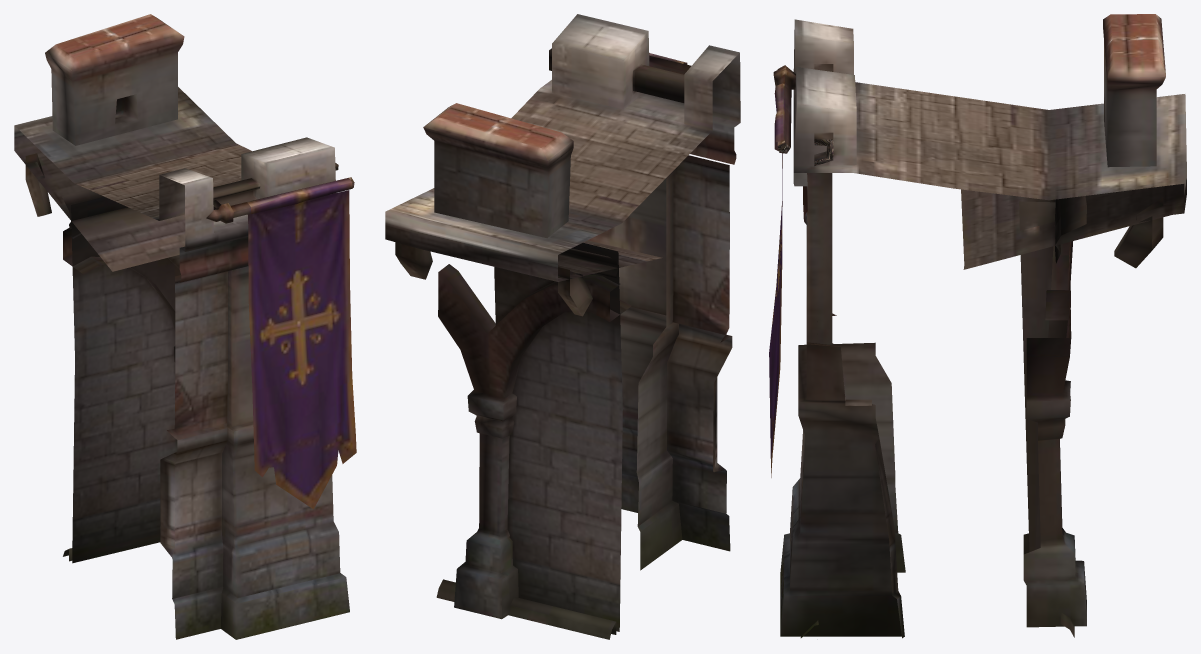
Rendered from WallRunLeft_17.fbx.
3 views of the same model, side by side, from view 1: azimuth 30°, elevation 25°; view 2: azimuth 150°, elevation 25°; view 3: azimuth 270°, elevation 25° (orthographic). The views are drawn at different scales.
Parts seen in each view (by area): view 1: Imported wall section.045; view 2: Imported wall section.045; view 3: Imported wall section.045.
Part boxes in pixels (x1,y1,x2,y2): Imported wall section.045: [14, 14, 356, 639]; Imported wall section.045: [385, 14, 740, 639]; Imported wall section.045: [769, 14, 1186, 638].
Bounding box in the file's own units: 200 × 573 × 389.
Materials: 1 (1 with a texture image).
